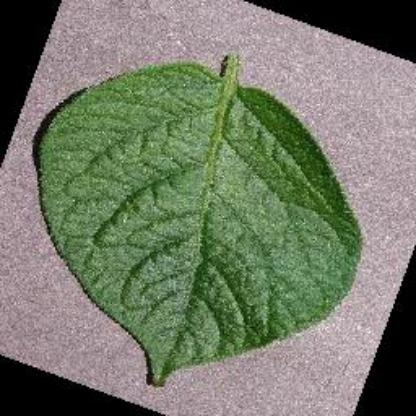Healthy-plant: (28, 44, 368, 388)
